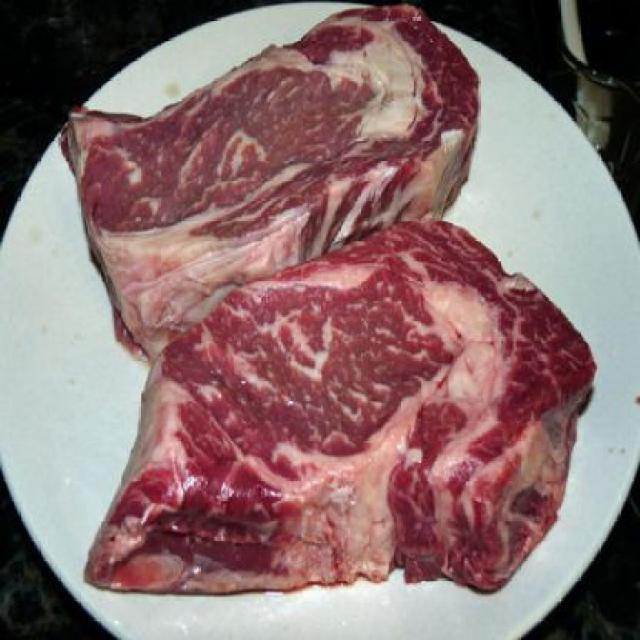Steak: (59, 63, 596, 600)
